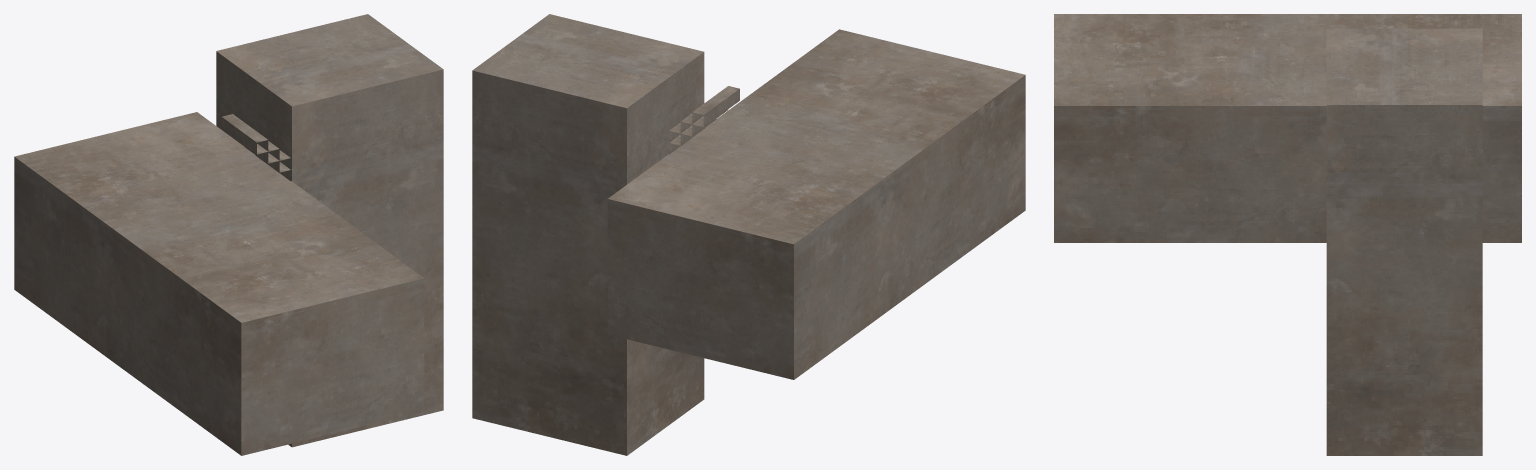
The model's file is Hallway.gltf.
3 renders of one model, left to right at view 1: azimuth 30°, elevation 25°; view 2: azimuth 150°, elevation 25°; view 3: azimuth 270°, elevation 25°, orthographic. The views are drawn at different scales.
Visible parts, largest first — view 1: Cube, Cube.001; view 2: Cube, Cube.001; view 3: Cube.
Part boxes in pixels (x1=…): Cube: x1=14, y1=14, x2=443, y2=455; Cube.001: x1=221, y1=114, x2=291, y2=181; Cube: x1=472, y1=14, x2=1025, y2=455; Cube.001: x1=668, y1=86, x2=739, y2=154; Cube: x1=1054, y1=14, x2=1521, y2=455.
Size of the model in its own units: 7.21 by 7.02 by 8.48.
1 material, 1 textured.
